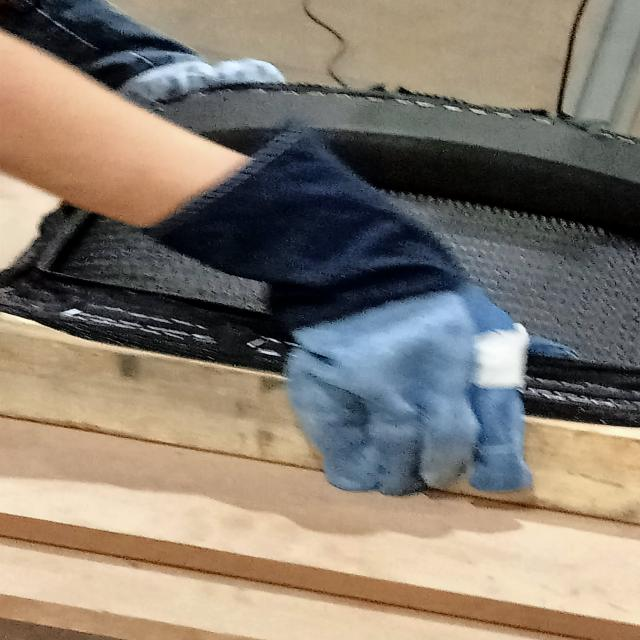Gloves-Detection: (187, 152, 524, 497)
